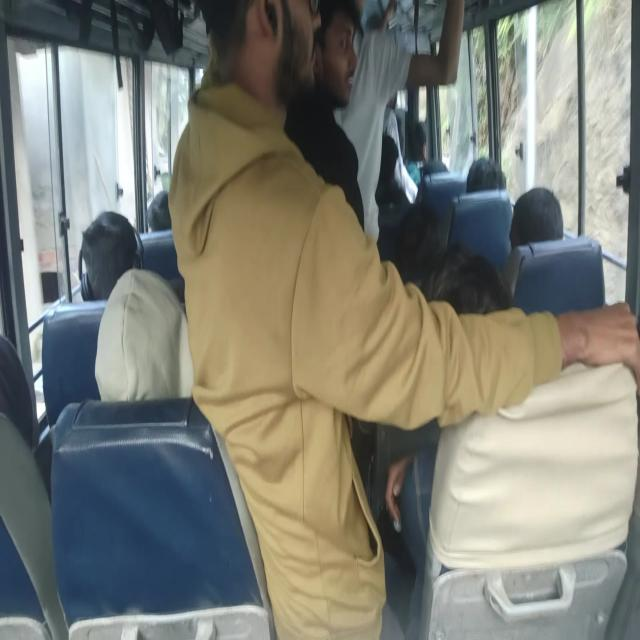person: (294, 0, 388, 185), (197, 0, 309, 135), (98, 292, 196, 418), (436, 241, 528, 365), (389, 205, 463, 282), (325, 12, 373, 108), (507, 205, 566, 262), (84, 210, 140, 268), (0, 338, 23, 474), (458, 154, 518, 202), (406, 105, 432, 167), (144, 199, 179, 237)
